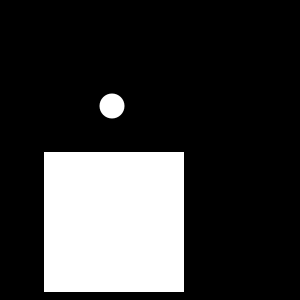circle: (44, 152, 184, 292)
rectangle: (100, 94, 125, 118)
